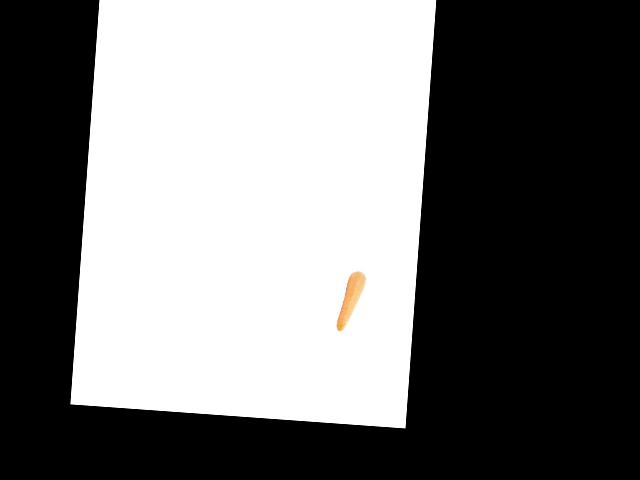carrot: (336, 269, 368, 336)
